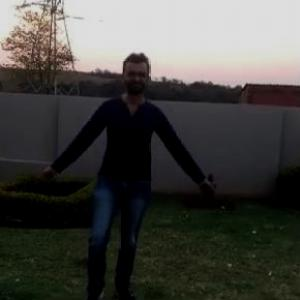land: (18, 54, 226, 294)
